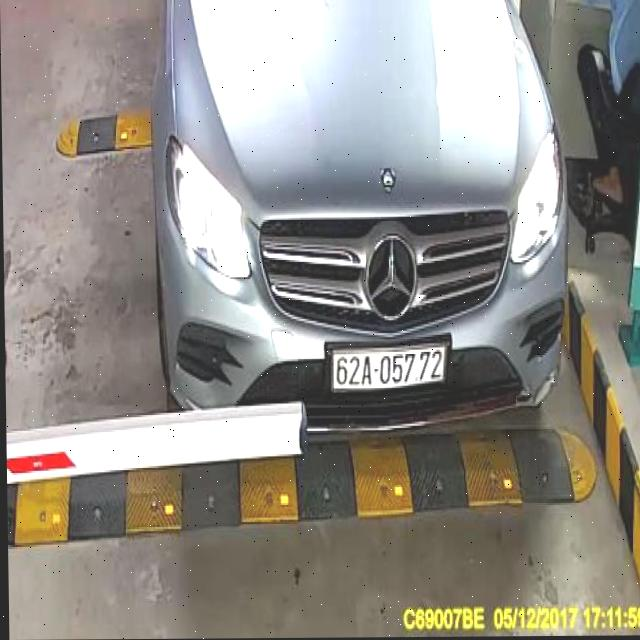car: (145, 0, 574, 453)
plate: (322, 337, 455, 394)
